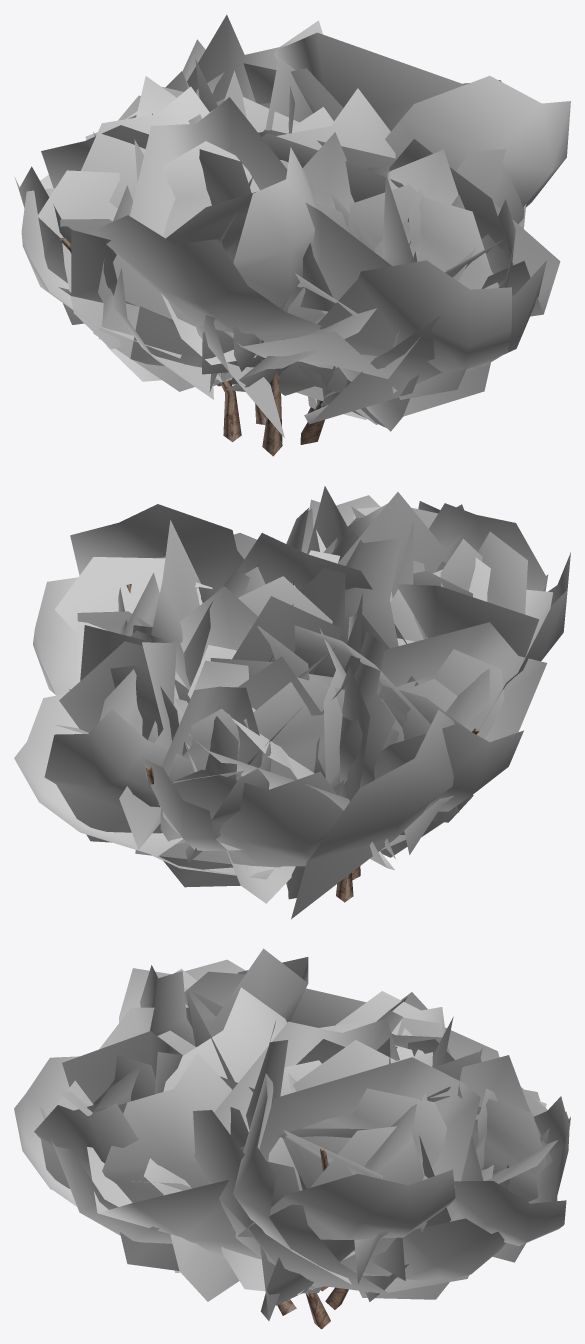
The model's file is Bushes2.fbx.
3 views of the same model, one above another, from view 1: azimuth 30°, elevation 25°; view 2: azimuth 150°, elevation 25°; view 3: azimuth 270°, elevation 25° (orthographic). The views are drawn at different scales.
Parts seen in each view (by area): view 1: rosebayRhododendron_01_bigBushC:Plane148, rosebayRhododendron_01_bigBushC:smallTwig007; view 2: rosebayRhododendron_01_bigBushC:Plane148, rosebayRhododendron_01_bigBushC:smallTwig007; view 3: rosebayRhododendron_01_bigBushC:Plane148, rosebayRhododendron_01_bigBushC:smallTwig007.
Boxes of the visible parts, x1,y1,x2,y2 form: rosebayRhododendron_01_bigBushC:Plane148: [14, 14, 570, 437]; rosebayRhododendron_01_bigBushC:smallTwig007: [60, 238, 325, 456]; rosebayRhododendron_01_bigBushC:Plane148: [14, 486, 570, 919]; rosebayRhododendron_01_bigBushC:smallTwig007: [126, 584, 479, 902]; rosebayRhododendron_01_bigBushC:Plane148: [14, 948, 570, 1320]; rosebayRhododendron_01_bigBushC:smallTwig007: [277, 1118, 570, 1329].
Size of the model in its own units: 2.21 by 1.57 by 2.42.
